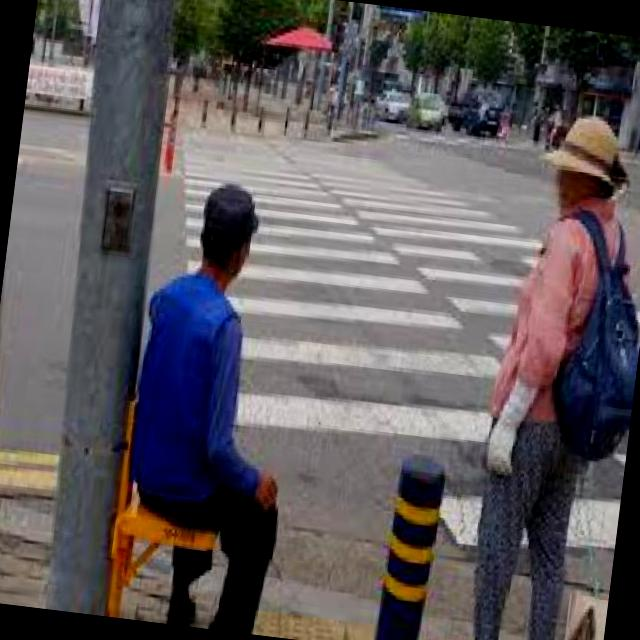Person: (457, 111, 640, 640), (111, 175, 316, 632)
